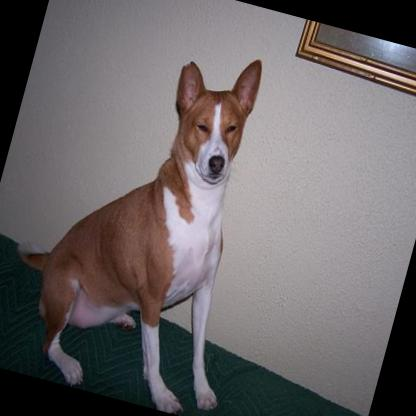basenji: (0, 6, 305, 416)
